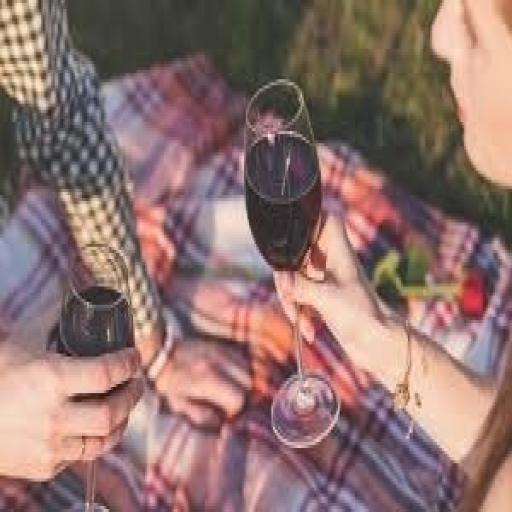drinking: (242, 76, 340, 448)
